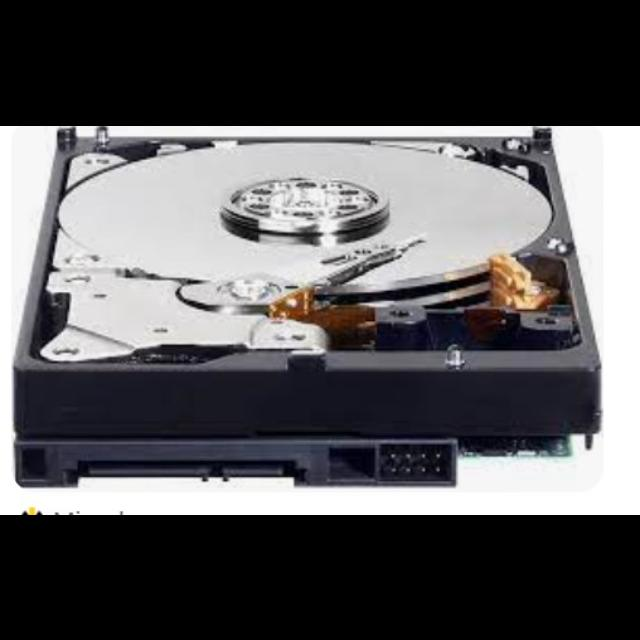HDD: (11, 125, 601, 489)
